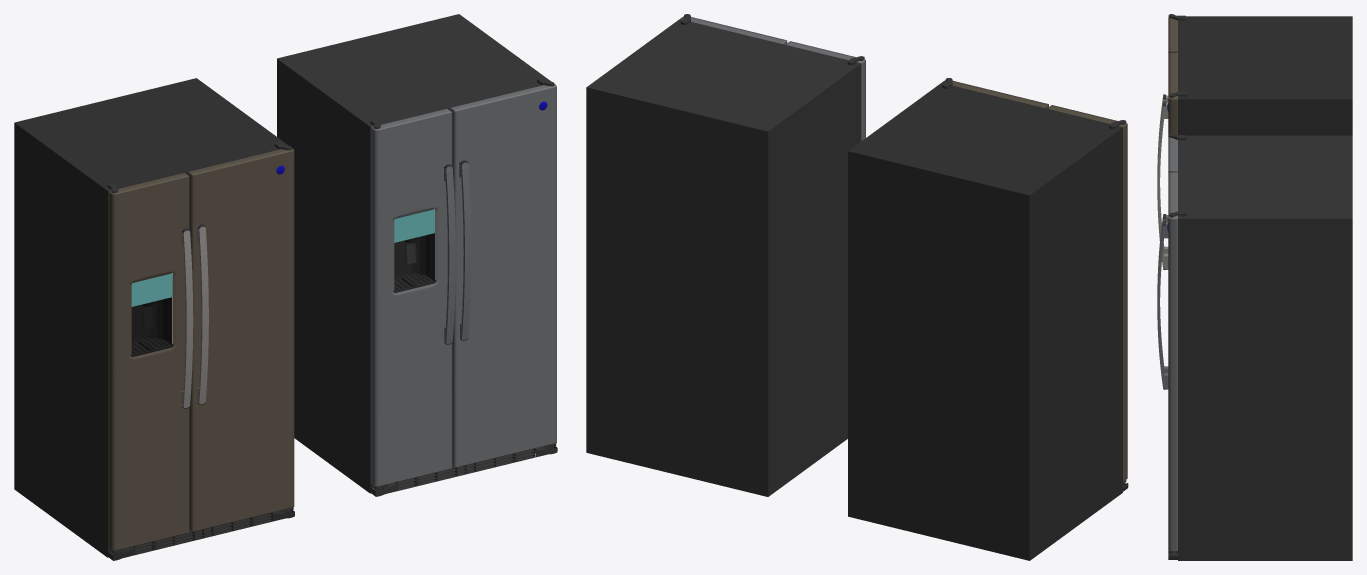
Rendered from doublerefrigerator.glb.
3 views of the same model, side by side, from view 1: azimuth 30°, elevation 25°; view 2: azimuth 150°, elevation 25°; view 3: azimuth 270°, elevation 25° (orthographic). The views are drawn at different scales.
Parts seen in each view (by area): view 1: Object017_$AssimpFbx$_GeometricTranslation, Object018_$AssimpFbx$_GeometricTranslation; view 2: Object017_$AssimpFbx$_GeometricTranslation, Object018_$AssimpFbx$_GeometricTranslation; view 3: Object018_$AssimpFbx$_GeometricTranslation, Object017_$AssimpFbx$_GeometricTranslation.
Boxes of the visible parts, x1,y1,x2,y2 form: Object017_$AssimpFbx$_GeometricTranslation: (14,78,294,560); Object018_$AssimpFbx$_GeometricTranslation: (277,14,557,496); Object017_$AssimpFbx$_GeometricTranslation: (848,78,1128,560); Object018_$AssimpFbx$_GeometricTranslation: (586,14,865,496); Object018_$AssimpFbx$_GeometricTranslation: (1157,133,1352,560); Object017_$AssimpFbx$_GeometricTranslation: (1157,14,1352,269).
Size of the model in its own units: 87.27 by 69.2 by 35.54.
